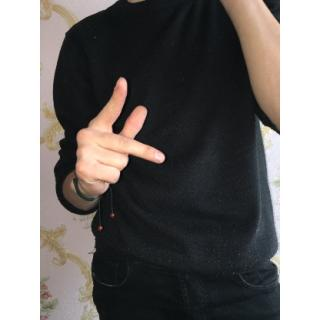DHAA: (69, 73, 170, 197)
